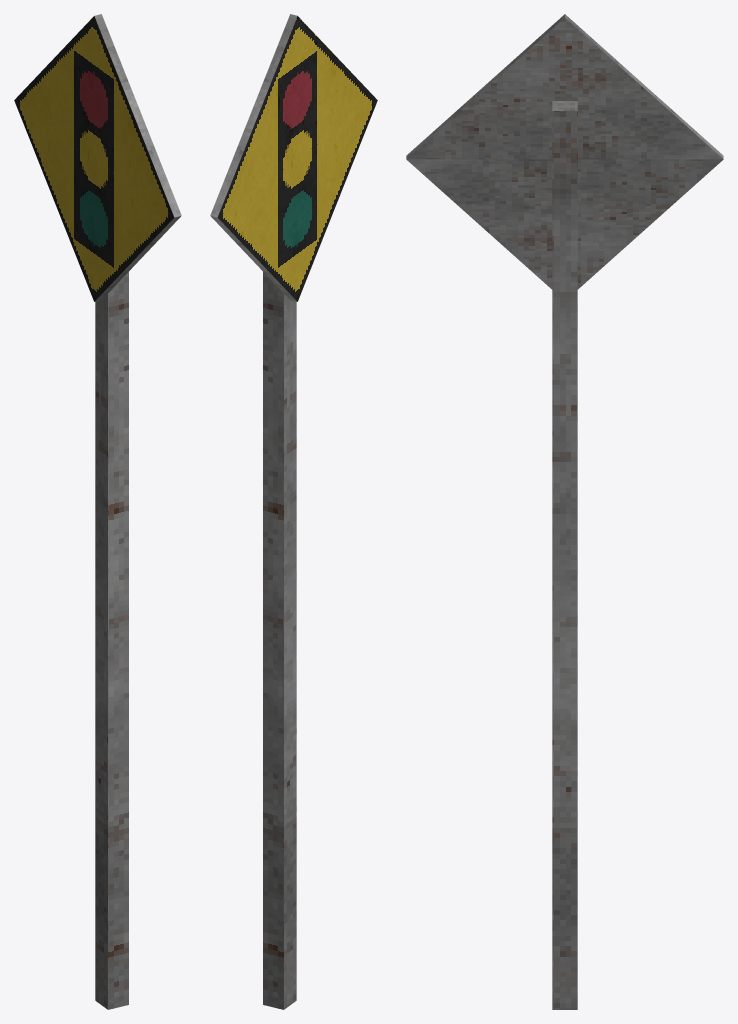
The model's file is Sign_TrafficLight.glb.
The picture shows the model from 3 angles, left to right: view 1: azimuth 30°, elevation 25°; view 2: azimuth 150°, elevation 25°; view 3: azimuth 270°, elevation 25°; orthographic projection.
Visible parts, largest first — view 1: Sign_TrafficLight; view 2: Sign_TrafficLight; view 3: Sign_TrafficLight.
Boxes of the visible parts, left/top/right/bottom form: Sign_TrafficLight: left=14, top=14, right=181, bottom=1009; Sign_TrafficLight: left=210, top=14, right=377, bottom=1009; Sign_TrafficLight: left=406, top=14, right=723, bottom=1009.
Size of the model in its own units: 0.0576 by 1.93 by 0.5665.
1 material, 1 textured.
